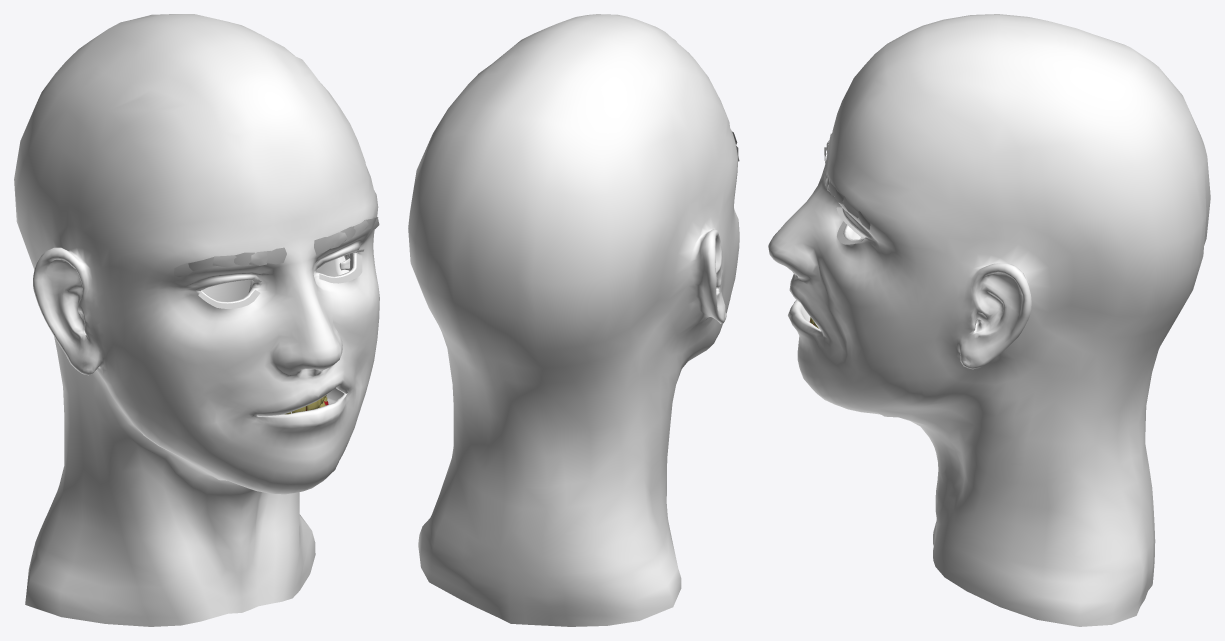
File: mouthUpperUpLeft.obj
The picture shows the model from 3 angles, left to right: view 1: azimuth 30°, elevation 25°; view 2: azimuth 150°, elevation 25°; view 3: azimuth 270°, elevation 25°; orthographic projection. The views are drawn at different scales.
Parts seen in each view (by area): view 1: FaceMesh_Plane.003; view 2: FaceMesh_Plane.003; view 3: FaceMesh_Plane.003.
Boxes of the visible parts, x1,y1,x2,y2 form: FaceMesh_Plane.003: (14,14,379,626); FaceMesh_Plane.003: (408,14,739,626); FaceMesh_Plane.003: (768,14,1210,626).
Bounding box in the file's own units: 1.54 × 2.71 × 1.94.
5 materials, 1 textured.
